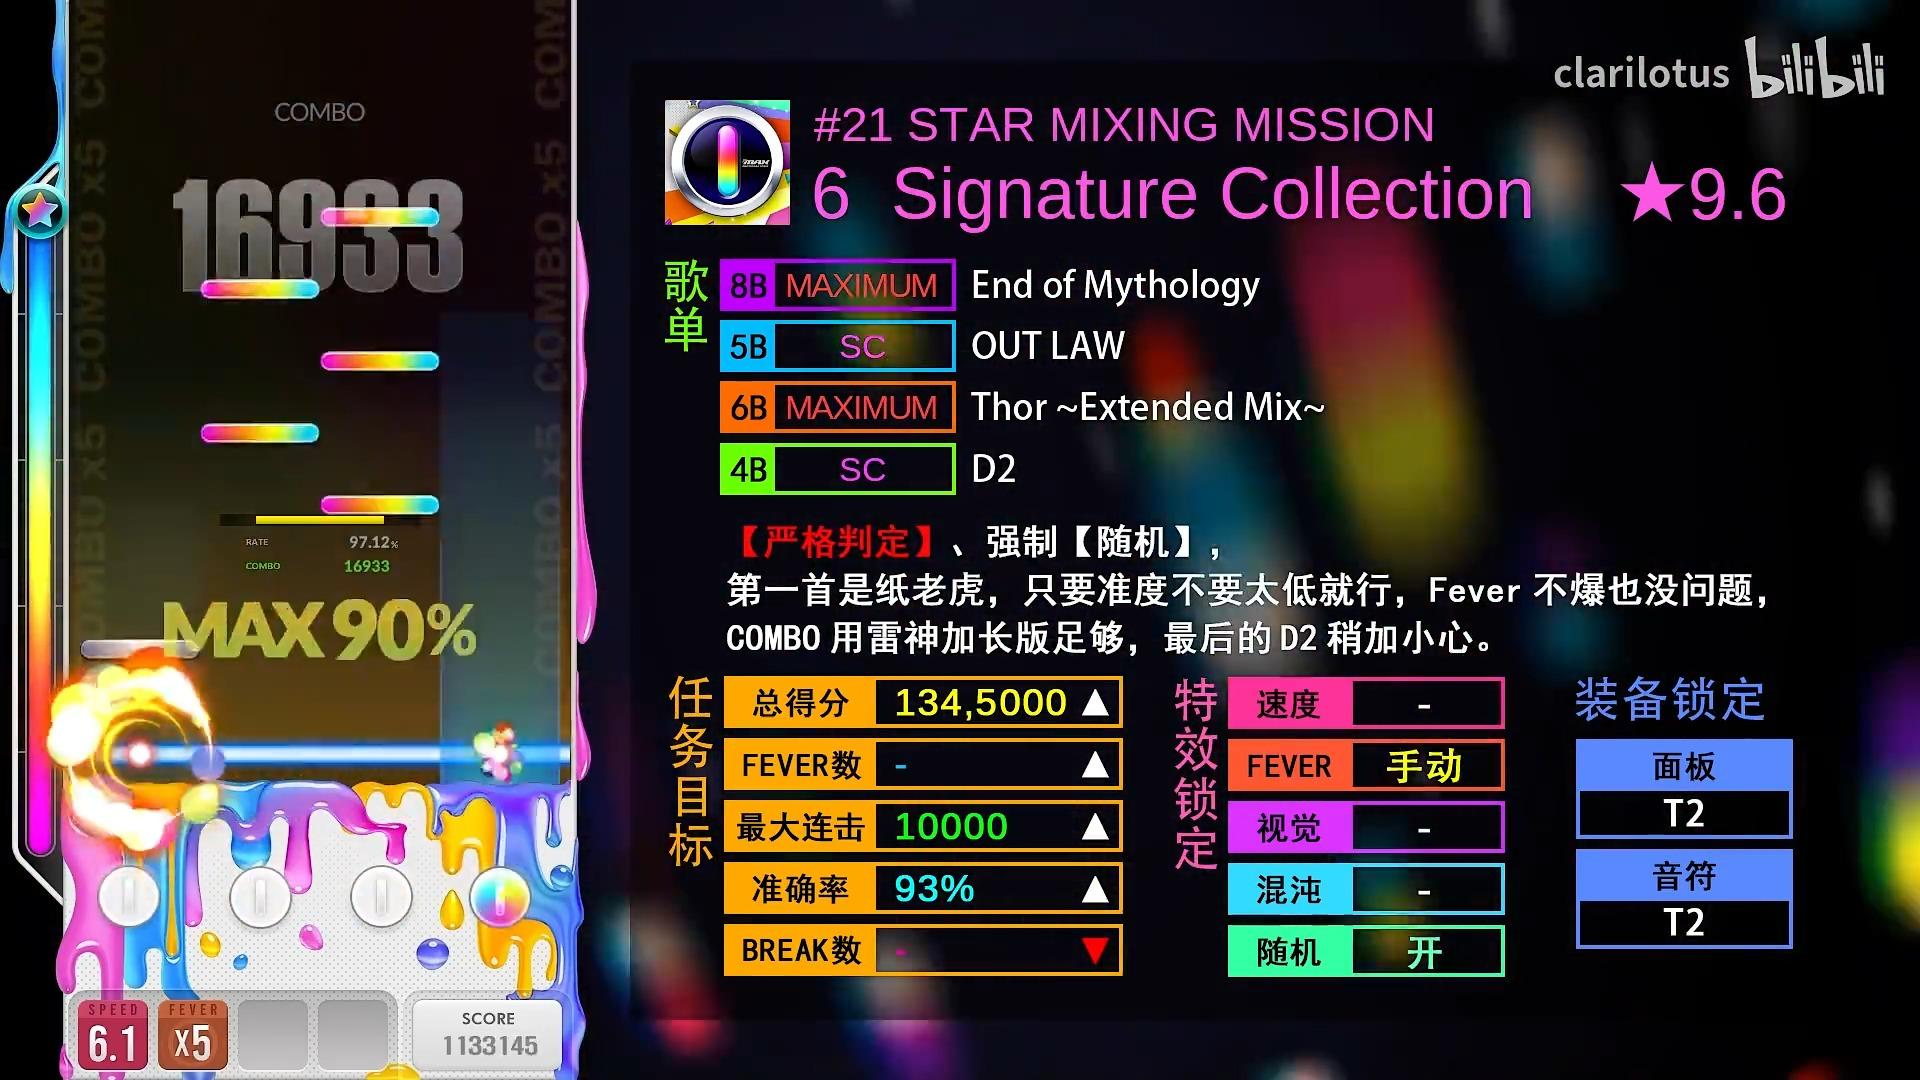note: (80, 638, 200, 662), (199, 278, 319, 299), (320, 495, 438, 516), (200, 423, 319, 443), (320, 208, 440, 227), (320, 352, 439, 371)
